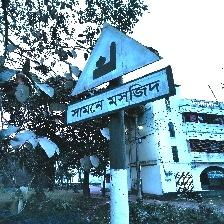Mosque in front: (68, 22, 175, 126)
